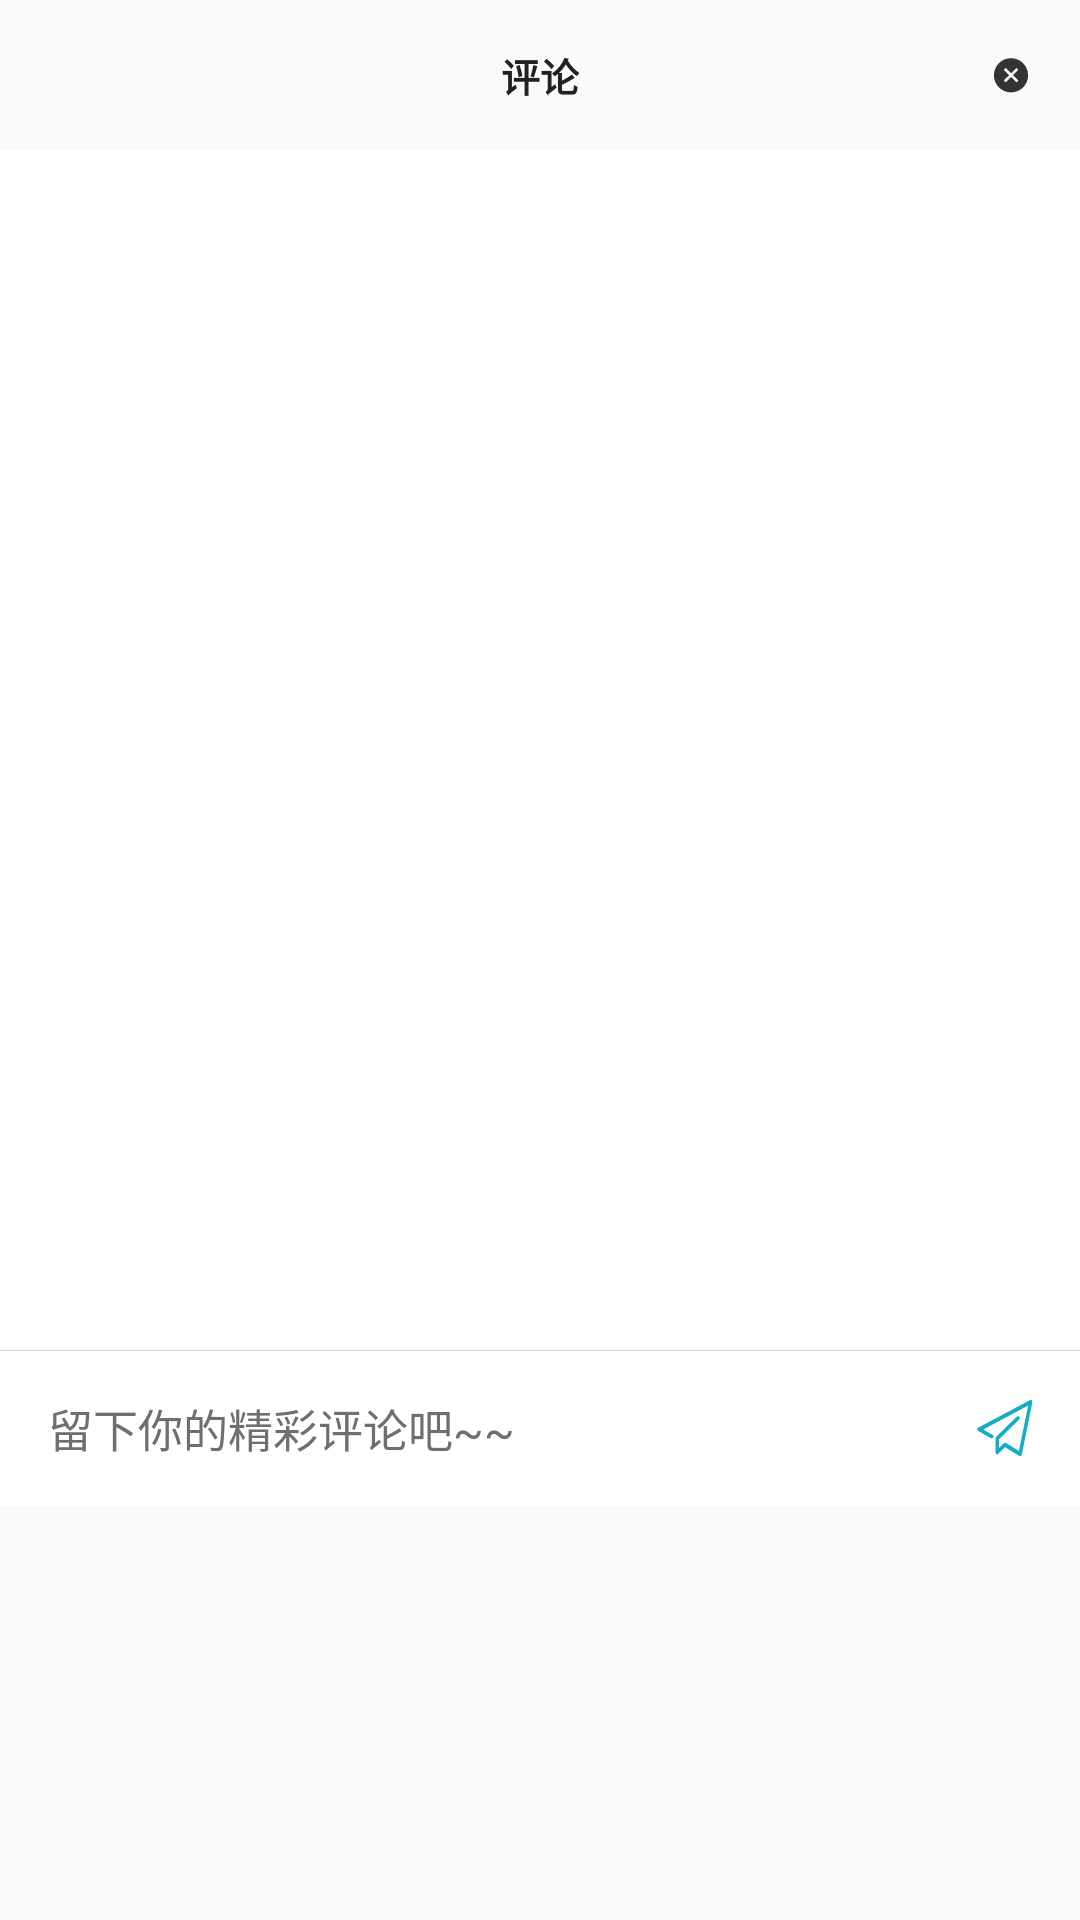

Icons on this 1080px×1920px Android screen, each with its box as (x1, y1, x2, y2):
close: (994, 58, 1028, 93)
send comment: (977, 1400, 1033, 1456)
